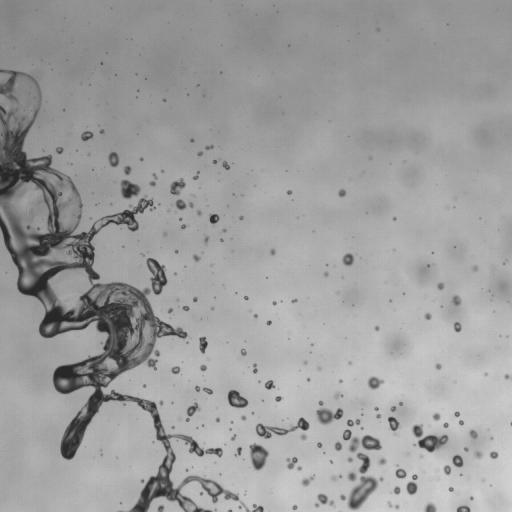droplet: (340, 452, 383, 511), (343, 419, 382, 452), (412, 424, 448, 452), (316, 400, 343, 424), (249, 443, 268, 470), (120, 179, 140, 199), (227, 389, 248, 407), (315, 493, 334, 507), (170, 178, 185, 195), (388, 416, 401, 434), (367, 376, 383, 389), (108, 152, 119, 167), (452, 454, 463, 467), (395, 466, 406, 479), (301, 475, 314, 486), (342, 253, 353, 265), (286, 457, 297, 469), (199, 337, 207, 353), (175, 199, 186, 209), (81, 131, 93, 140), (424, 502, 436, 511), (209, 214, 219, 224), (452, 295, 461, 305), (265, 380, 274, 389), (453, 322, 461, 332), (443, 465, 451, 475), (123, 166, 131, 175), (469, 429, 477, 438), (377, 457, 386, 465), (432, 412, 440, 420), (334, 442, 342, 450), (171, 366, 180, 373), (203, 387, 212, 394), (489, 451, 498, 458), (222, 161, 229, 169), (338, 189, 345, 197), (474, 451, 482, 458), (393, 486, 400, 494), (235, 447, 241, 456), (56, 147, 63, 154), (193, 254, 200, 261), (334, 393, 342, 399), (437, 283, 444, 289), (424, 313, 431, 319), (504, 374, 511, 380), (300, 433, 306, 440), (157, 505, 164, 511), (435, 363, 441, 369), (200, 365, 206, 371), (193, 172, 198, 179), (270, 248, 275, 255), (275, 396, 282, 401), (205, 145, 213, 149), (181, 224, 187, 229), (183, 306, 189, 311), (241, 349, 246, 355), (390, 406, 396, 411), (454, 411, 459, 417), (443, 422, 448, 428), (231, 434, 236, 440), (387, 501, 392, 507), (197, 151, 202, 156), (472, 266, 477, 271), (374, 325, 379, 330), (241, 415, 246, 420), (317, 442, 322, 447), (347, 457, 352, 462), (292, 504, 297, 509), (286, 190, 292, 194), (204, 236, 208, 242), (189, 202, 193, 207), (197, 210, 201, 215), (324, 271, 328, 276), (193, 297, 197, 302), (266, 320, 271, 324), (195, 386, 199, 391), (376, 414, 381, 418), (459, 420, 463, 425), (296, 466, 301, 470), (395, 504, 399, 509), (291, 299, 297, 302), (100, 129, 104, 133), (244, 296, 248, 300), (272, 301, 276, 305), (168, 308, 172, 312), (374, 406, 378, 410), (464, 447, 468, 451), (449, 487, 453, 491), (239, 216, 243, 219), (317, 367, 321, 370), (227, 509, 232, 511), (190, 139, 193, 142), (213, 160, 216, 163), (393, 217, 396, 220), (175, 250, 178, 253), (254, 314, 257, 317), (304, 361, 307, 364), (160, 401, 163, 404), (216, 418, 219, 421), (140, 158, 143, 160), (179, 218, 181, 221), (223, 229, 225, 232), (163, 233, 166, 235), (220, 239, 223, 241), (484, 373, 487, 375), (339, 380, 342, 382), (143, 384, 145, 387), (399, 402, 402, 404), (420, 455, 423, 457), (470, 497, 473, 499), (174, 272, 176, 274), (307, 378, 309, 380), (330, 460, 332, 462)
ligament: (0, 68, 263, 511), (255, 417, 309, 438), (186, 403, 200, 421), (406, 474, 417, 494), (149, 173, 156, 186), (456, 505, 470, 511), (331, 475, 341, 480), (253, 363, 257, 373), (117, 510, 123, 511), (510, 422, 511, 425)
